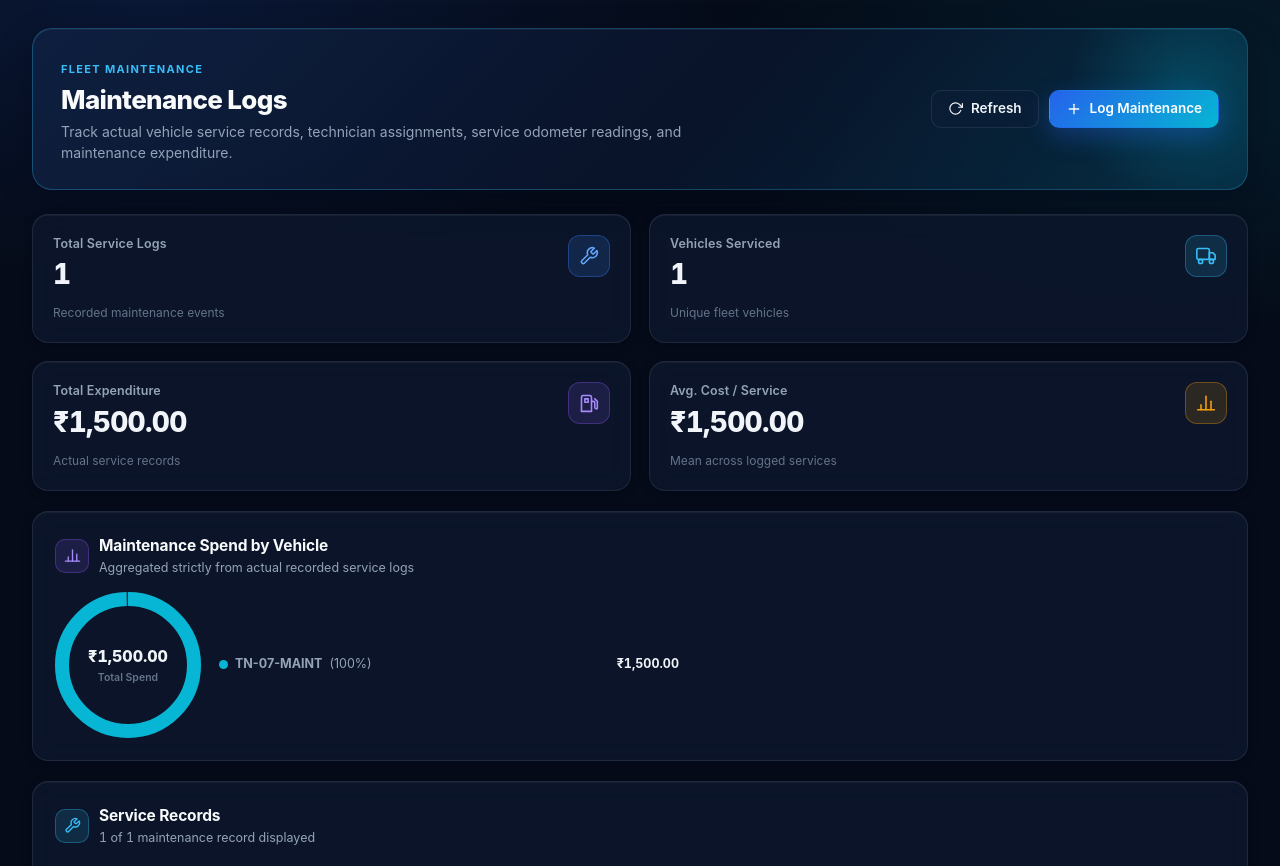
Test: P4-3 — MaintenanceList renders INR costs, mileageAtService, and clean modal submission
Later steps or results of the test are not shown.
Click the button "Log Maintenance" at (1134, 109), box [1049,90,1219,128]
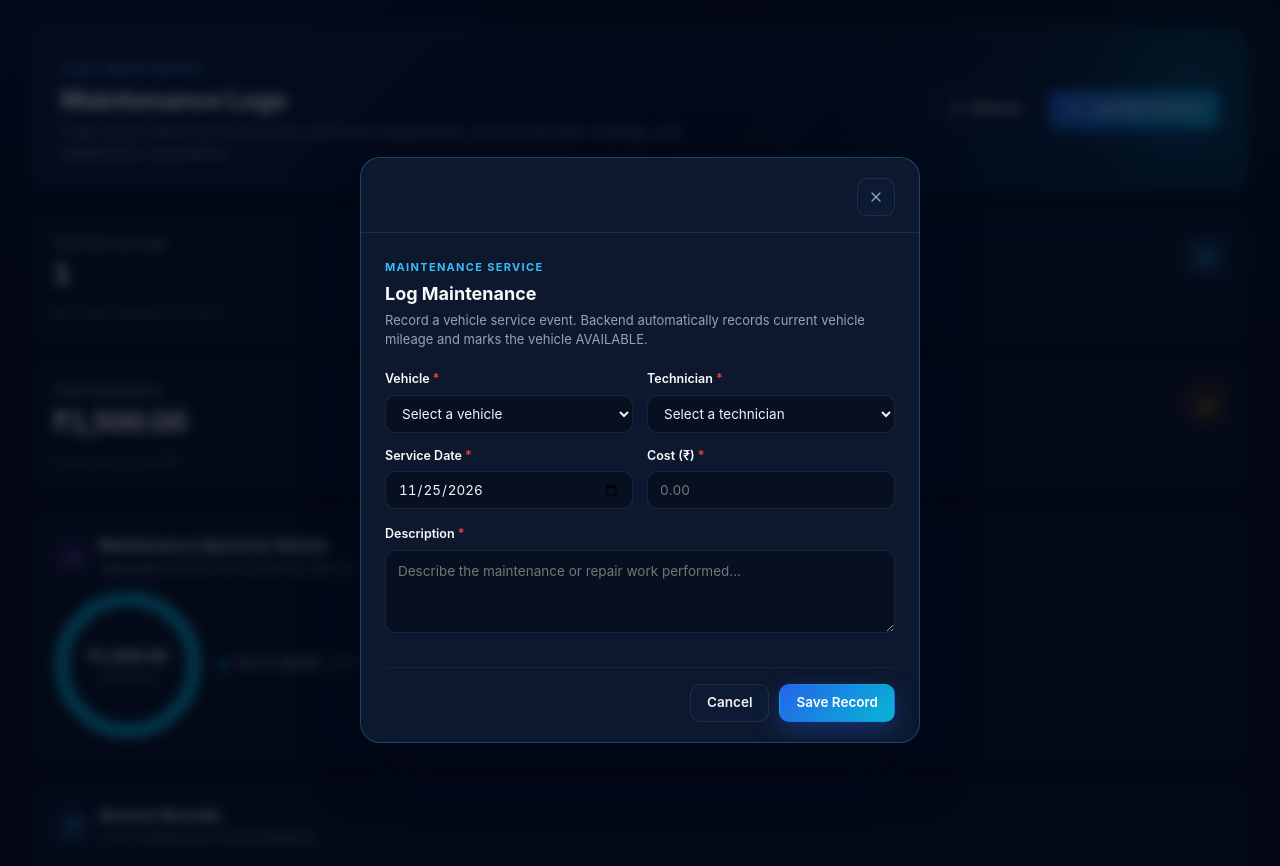
Now the dropdown labelled "Vehicle*" is shown, box [385,394,633,432]
